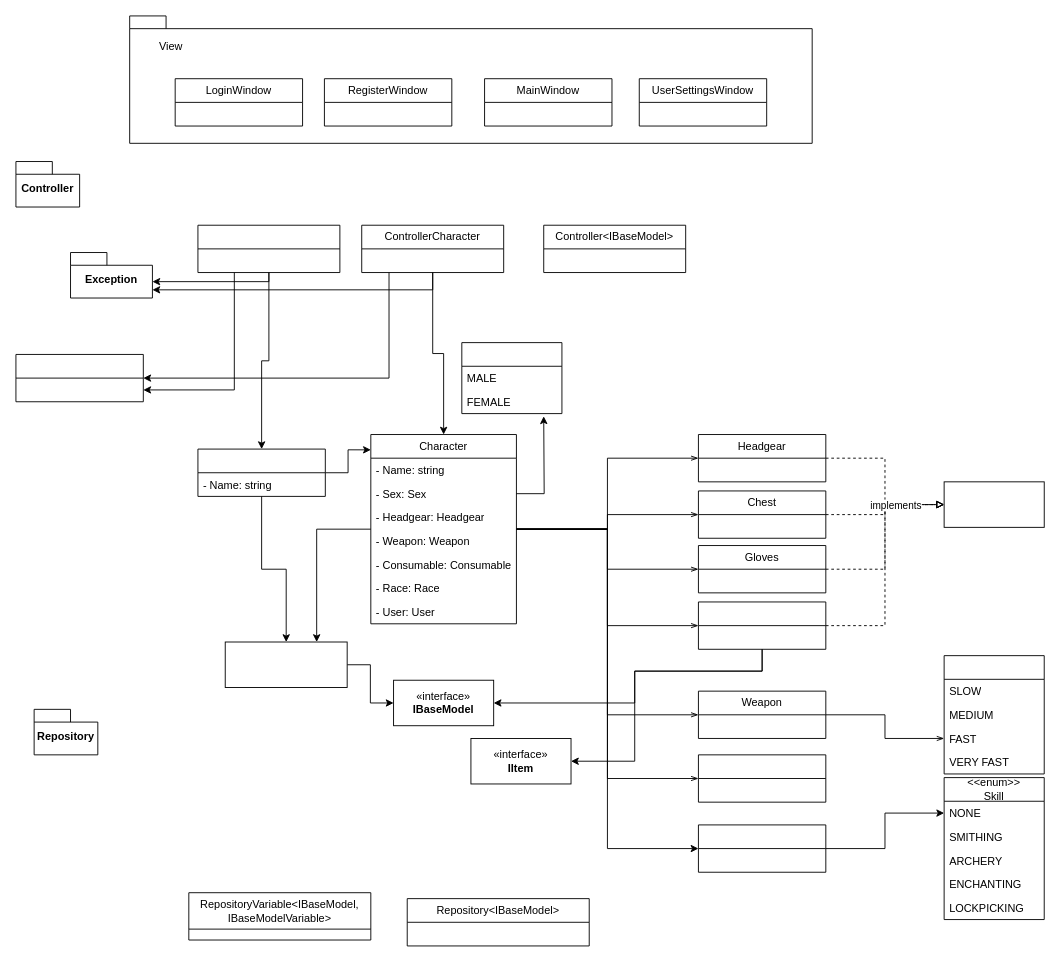
The diagram is 1060 pixels wide and 962 high, and some of its shapes have lost their labels. Here are the shapes that lost their labels. From the top down, the box of each, then its label:
(197, 224, 340, 273): ControllerUser
(15, 354, 143, 402): DataHandler
(461, 342, 562, 414): <<enum>> Sex
(197, 448, 325, 496): User
(943, 481, 1044, 527): «interface» IClothing
(698, 601, 826, 649): Legs
(224, 641, 347, 688): «interface» IBaseModelVariable
(943, 655, 1044, 774): <<enum>> AttackSpeed
(698, 754, 826, 802): Consumable
(698, 824, 826, 872): Race
